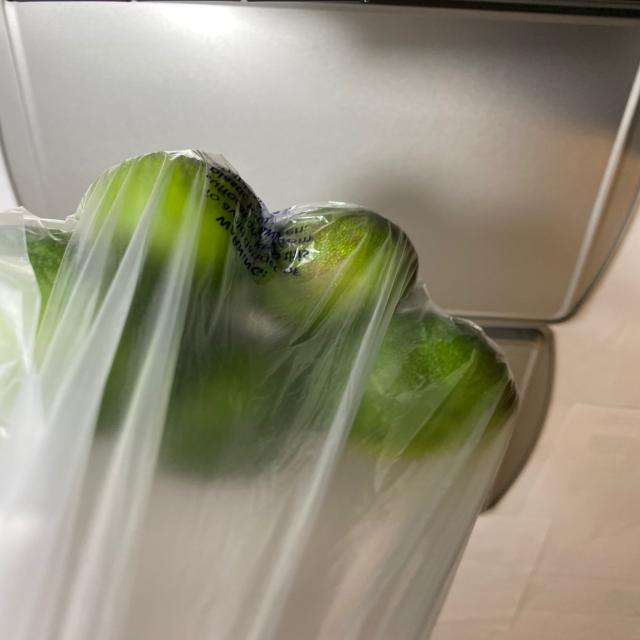lemon: (1, 156, 520, 474)
